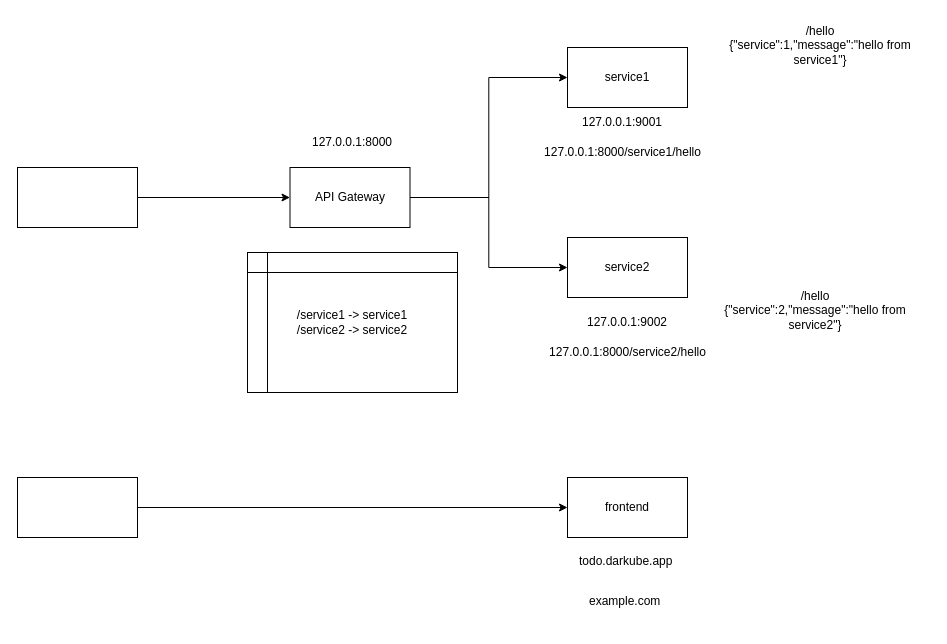
Image size: 947x644. Some labels were removed from this diagram. The shapes that lost their labels are listed below. From the top down, each one's centre as x and y in pixels, then its label:
At point (77, 197): "127.0.0.1:8000 api.example.com".
At point (77, 507): "127.0.0.1:8000 .example.com".
